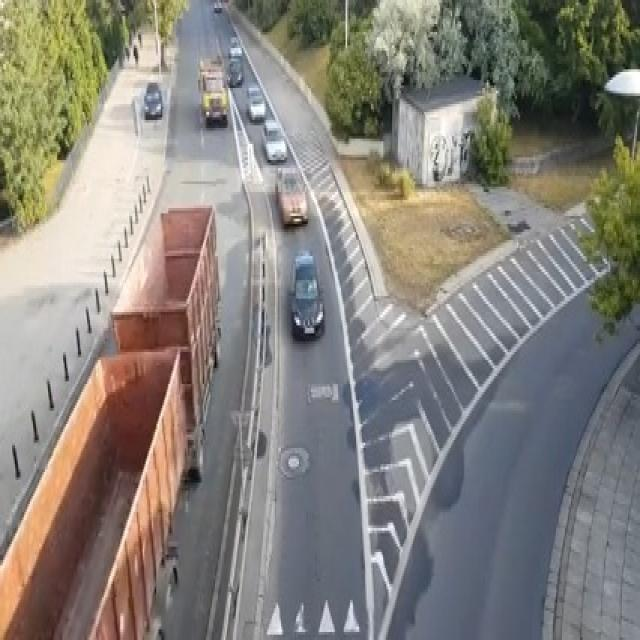car: (288, 250, 324, 338), (275, 165, 308, 227), (260, 117, 287, 163), (143, 80, 162, 117), (247, 82, 264, 122), (225, 56, 242, 85), (213, 0, 220, 13)
truck: (197, 54, 228, 125)
